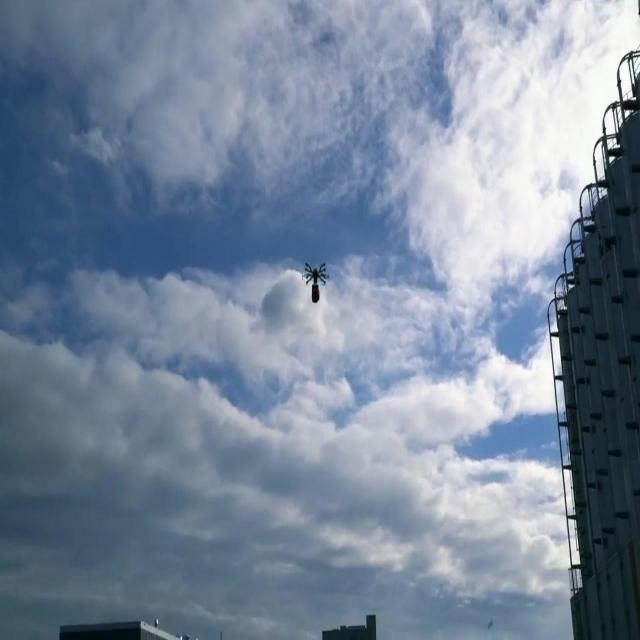UAV: (302, 262, 330, 288)
